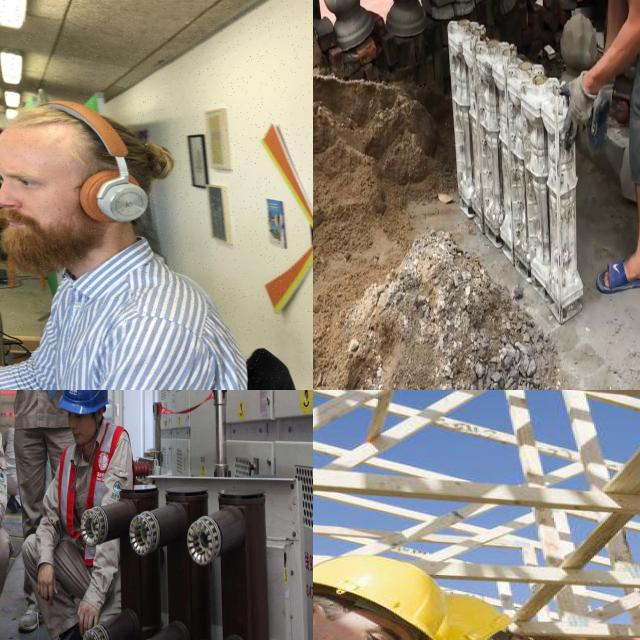Ear-protection: (0, 81, 158, 282)
No_Ear-Protection: (313, 601, 335, 631), (510, 634, 530, 640)
No_Glasses: (332, 609, 416, 640)
Sandals: (593, 252, 640, 288)
face_nomask: (66, 406, 98, 443)
hand_glove: (557, 68, 597, 149)
hand_noglove: (75, 597, 106, 640), (33, 564, 59, 601)
head_helmet: (313, 556, 444, 637), (430, 595, 512, 640), (65, 390, 107, 414)
person: (40, 390, 114, 640), (4, 390, 65, 468)
vest: (61, 425, 128, 525)
